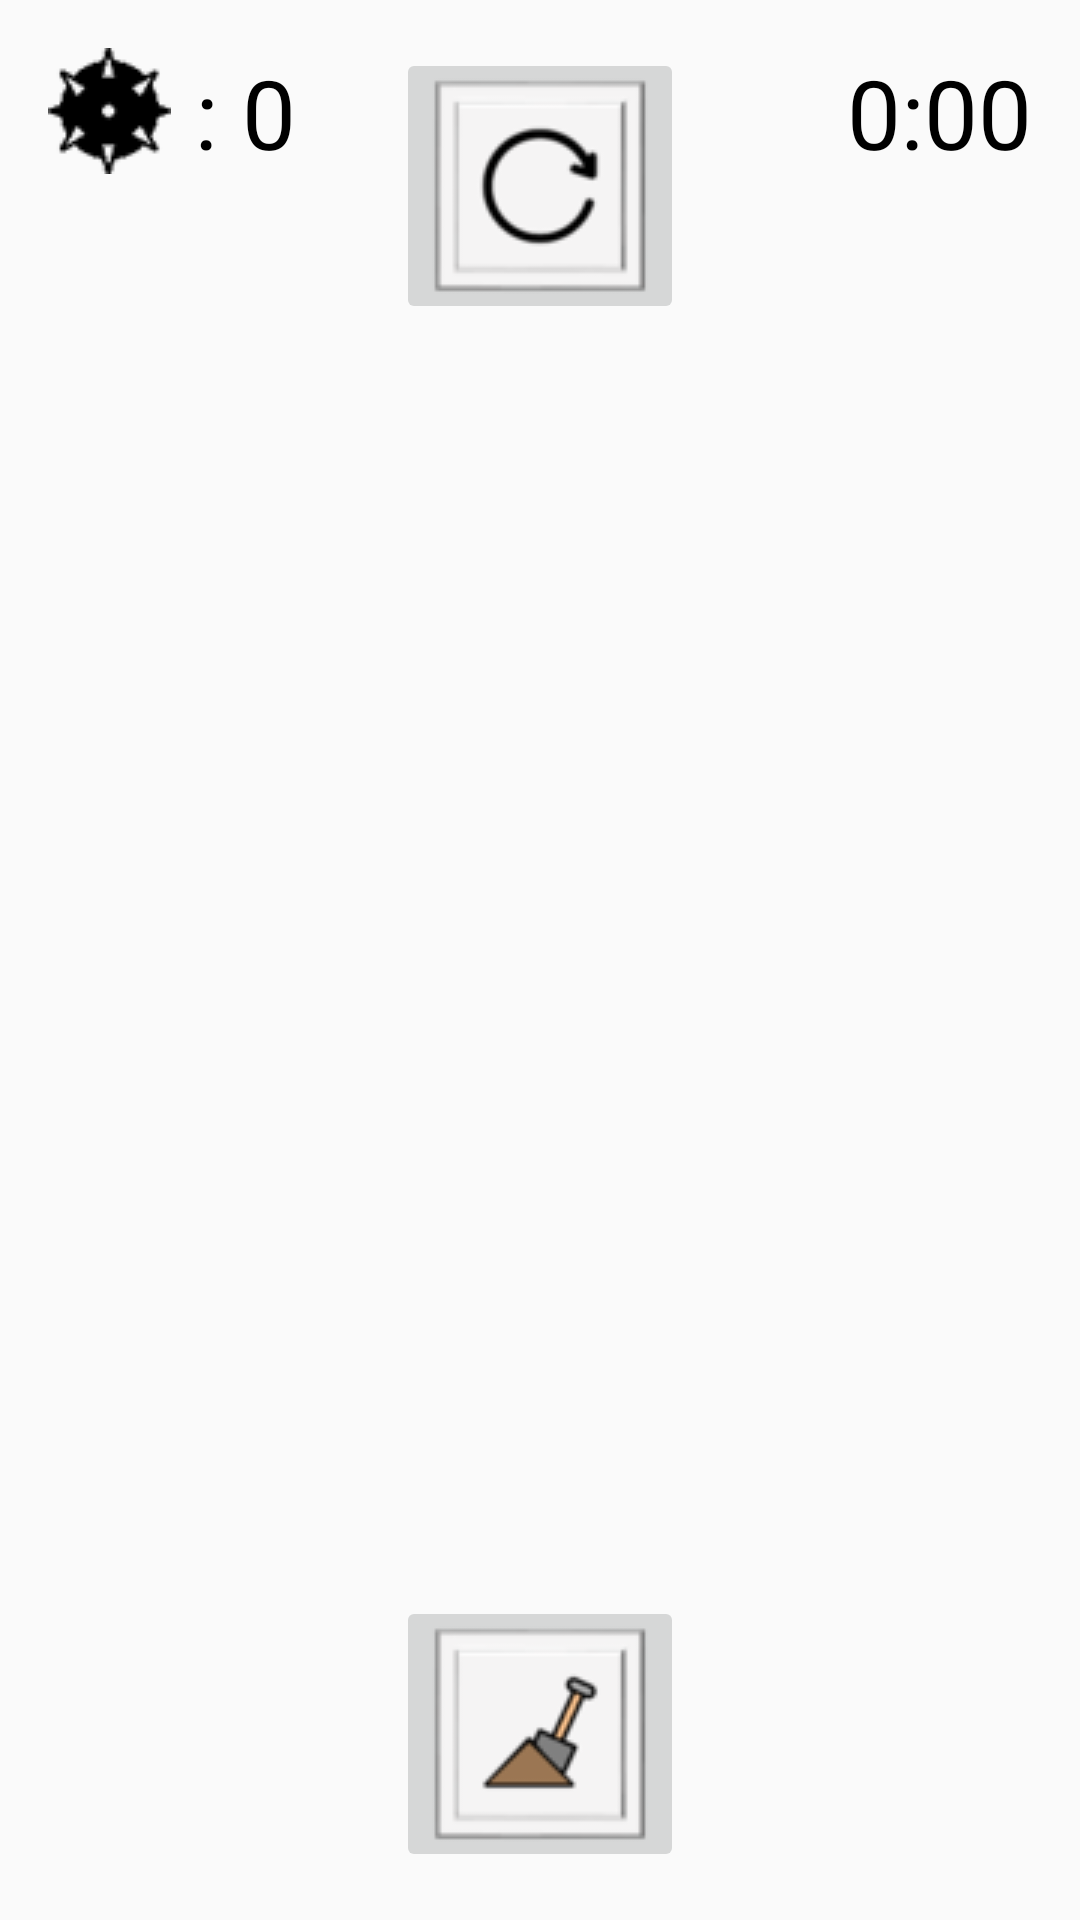

Where to tap for icons on this 1080 x 1920 app screen, as (x=x, y=y):
Mine Image: (x=109, y=111)
Mode Switch Button: (x=540, y=1734)
Restart Button: (x=540, y=186)
